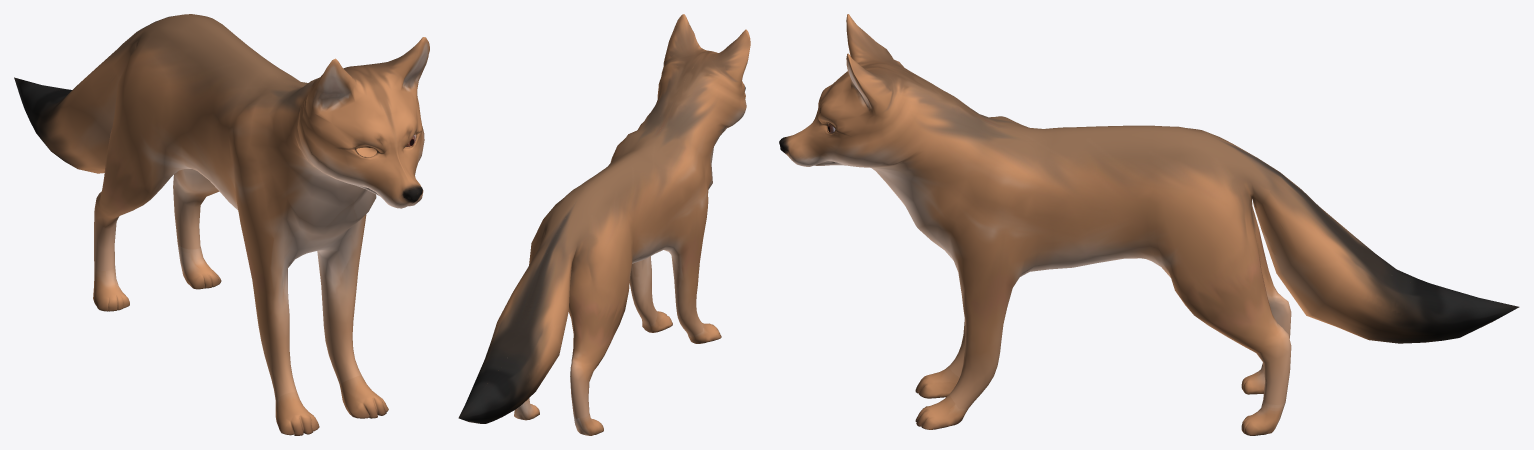
File: Fox.glb
3 renders of one model, left to right at view 1: azimuth 30°, elevation 25°; view 2: azimuth 150°, elevation 25°; view 3: azimuth 270°, elevation 25°, orthographic. The views are drawn at different scales.
Visible parts, largest first — view 1: Fox; view 2: Fox; view 3: Fox.
Boxes of the visible parts, <box> form: Fox: <box>14,14,429,435</box>; Fox: <box>458,14,750,435</box>; Fox: <box>779,14,1519,435</box>.
Bounding box in the file's own units: 1.95 × 6.15 × 11.
3 materials, 3 textured.
